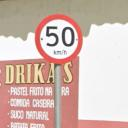speed_limit_50: (34, 14, 84, 64)
